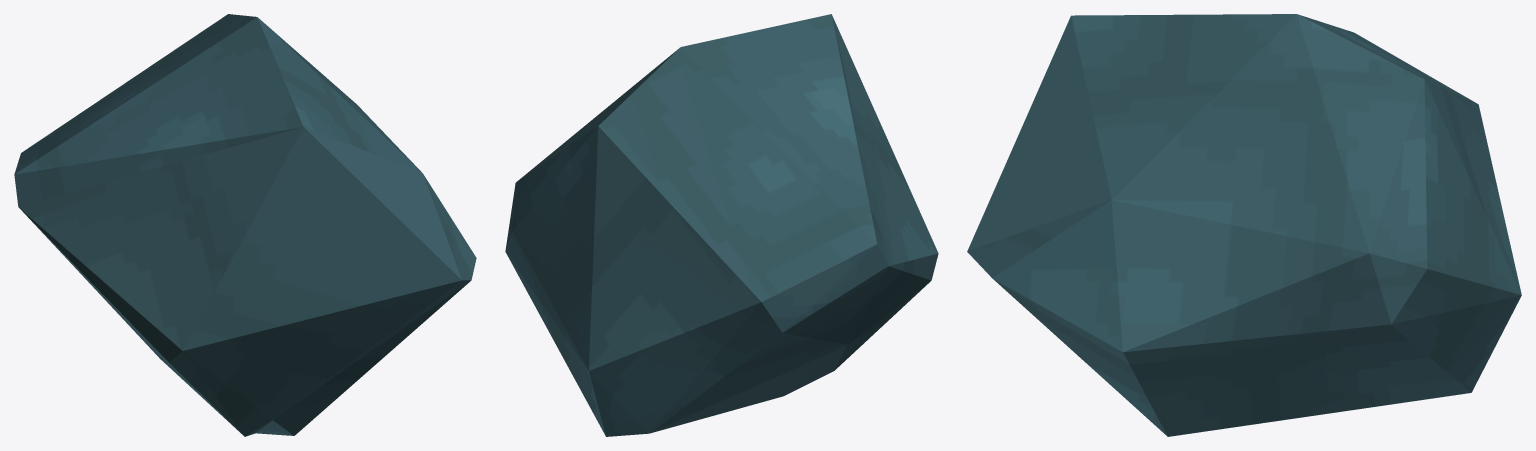
File: CrashRock_C07_03.fbx
3 renders of one model, left to right at view 1: azimuth 30°, elevation 25°; view 2: azimuth 150°, elevation 25°; view 3: azimuth 270°, elevation 25°, orthographic. The views are drawn at different scales.
Visible parts, largest first — view 1: CrashRock_C07; view 2: CrashRock_C07; view 3: CrashRock_C07.
Part boxes in pixels (box(x1,y1,x2,y2)): CrashRock_C07: box(14, 14, 476, 436); CrashRock_C07: box(505, 14, 938, 436); CrashRock_C07: box(967, 14, 1521, 436).
Size of the model in its own units: 0.877 by 0.8562 by 0.9932.
1 material, 1 textured.
